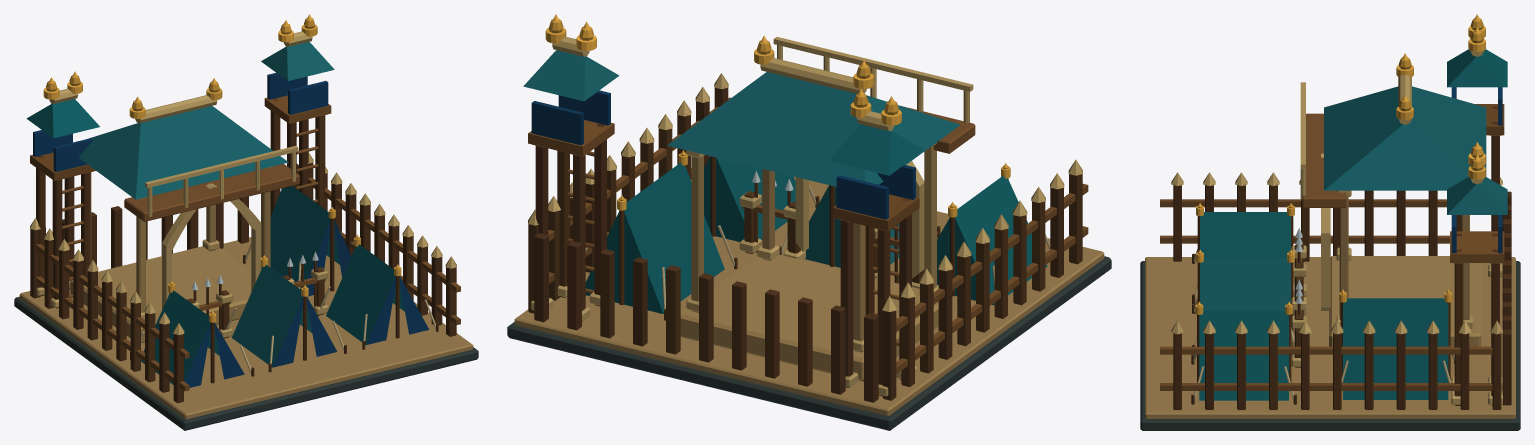
The picture shows the model from 3 angles, left to right: view 1: azimuth 30°, elevation 25°; view 2: azimuth 150°, elevation 25°; view 3: azimuth 270°, elevation 25°; orthographic projection. The views are drawn at different scales.
Parts seen in each view (by area): view 1: camp_level12_structure, camp_level12_metal; view 2: camp_level12_structure, camp_level12_metal; view 3: camp_level12_structure, camp_level12_metal.
Part boxes in pixels (box(x1,y1,x2,y2)): camp_level12_structure: box(14, 18, 478, 430); camp_level12_metal: box(43, 14, 401, 322); camp_level12_structure: box(507, 19, 1111, 430); camp_level12_metal: box(545, 14, 1010, 217); camp_level12_structure: box(1140, 18, 1520, 430); camp_level12_metal: box(1195, 14, 1485, 314).
Bounding box in the file's own units: 5.6 × 4.34 × 5.6.
